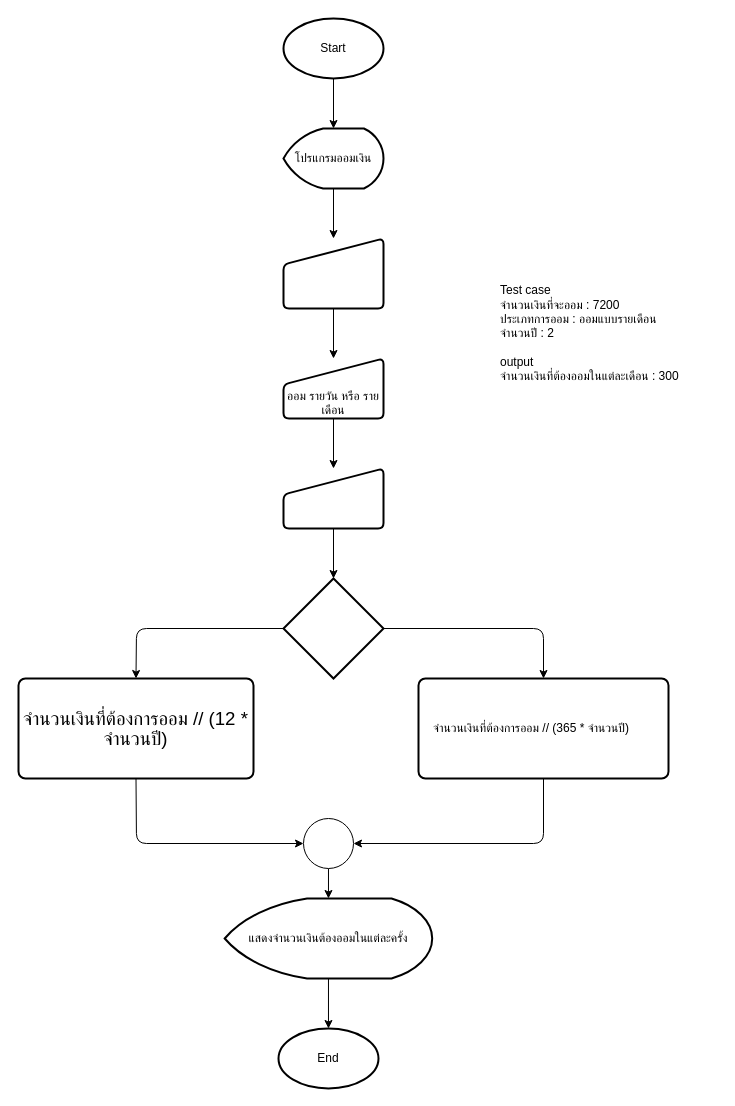
Image size: 735x1106. Some labels were removed from this diagram. The shapes that lost their labels are listed below. From the top down, each one's box as (x1, y1, x2, y2) in pixels, then its label:
(282, 237, 384, 309): จำนวนเงินที่ต้องการออม
(282, 467, 384, 529): จำนวนปีที่จะออม
(282, 577, 384, 679): ออมรายวัน หรือไม่
